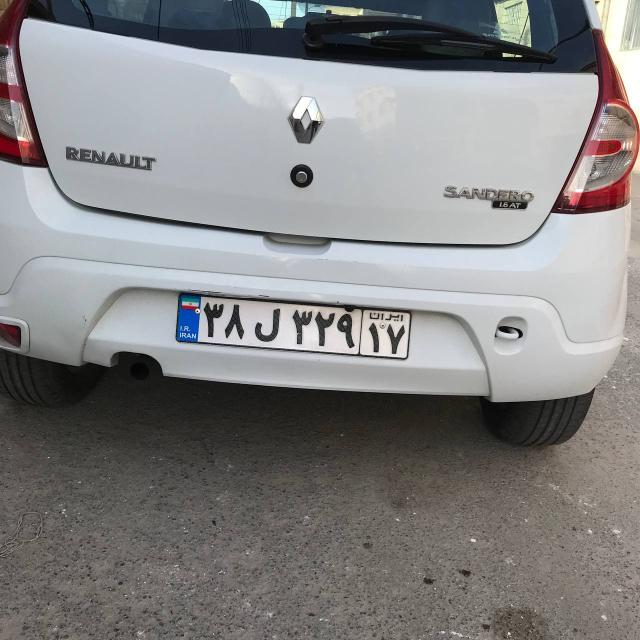Plates: (174, 291, 412, 360)
